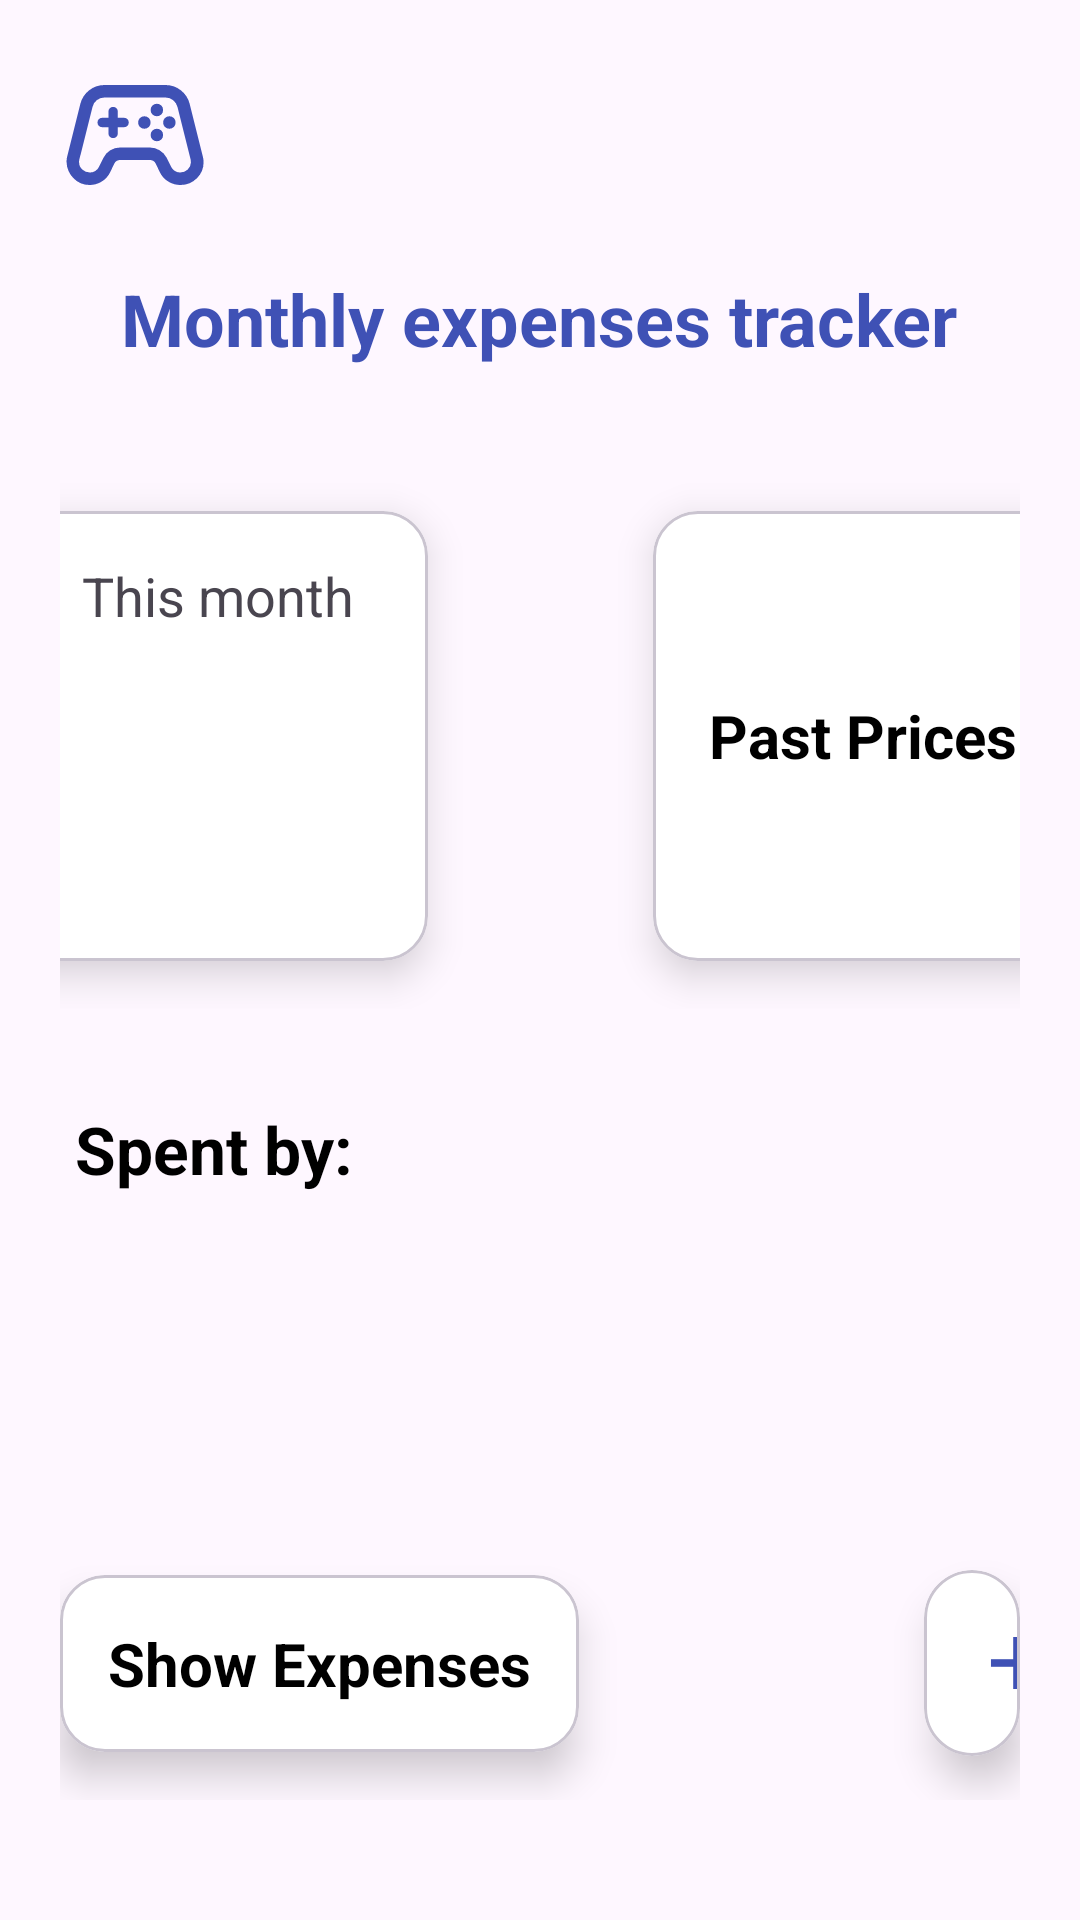

Where to tap for icons on this 1080 x 1920 app screen, as (x,y):
Icon Game Controller: (135,135)
